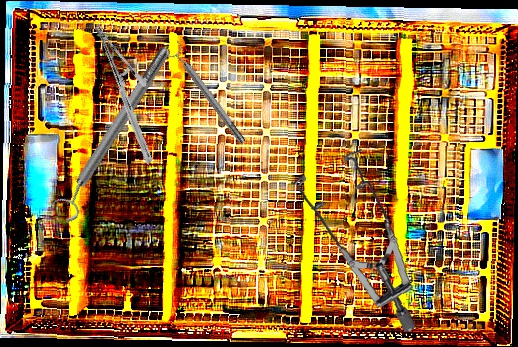Fixation Ring: (45, 40, 182, 226), (163, 39, 251, 149)
Needle Holder: (49, 22, 198, 166)
Speculum: (278, 143, 430, 335)
